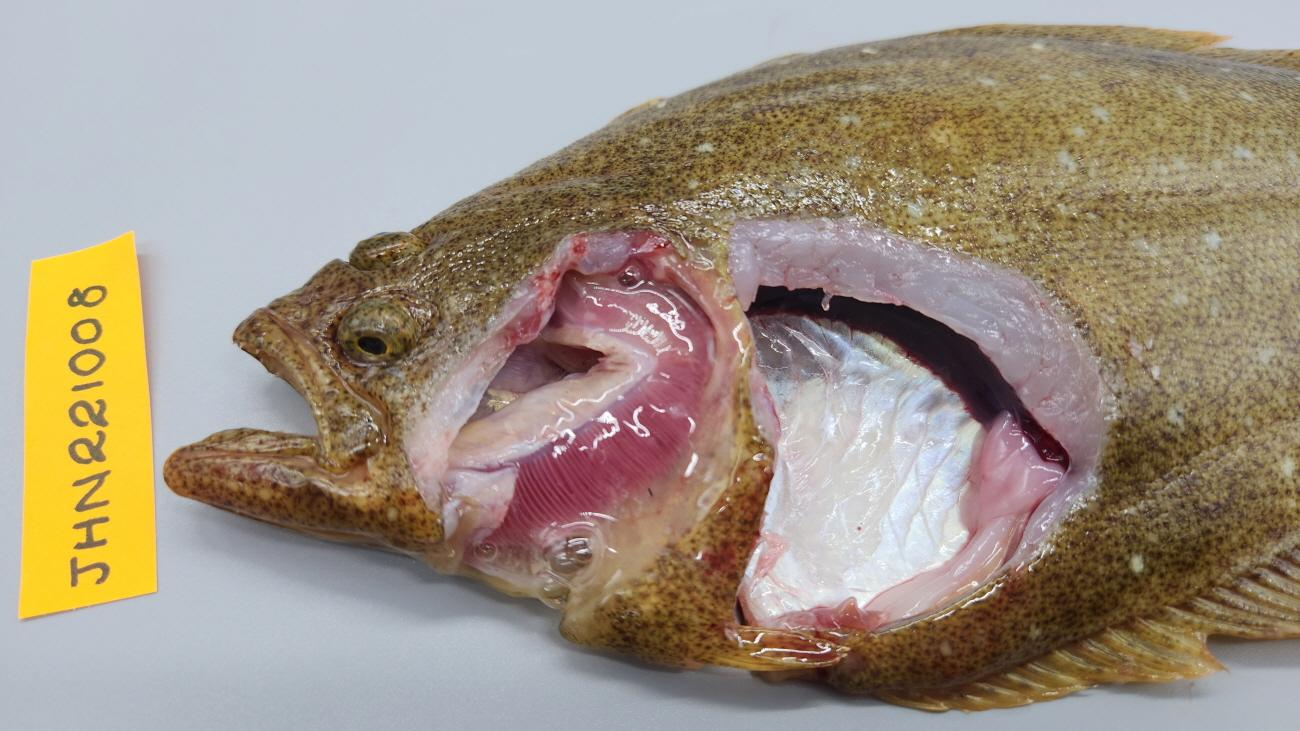POASN: (737, 311, 988, 622)
POKIN: (745, 285, 1070, 470)
